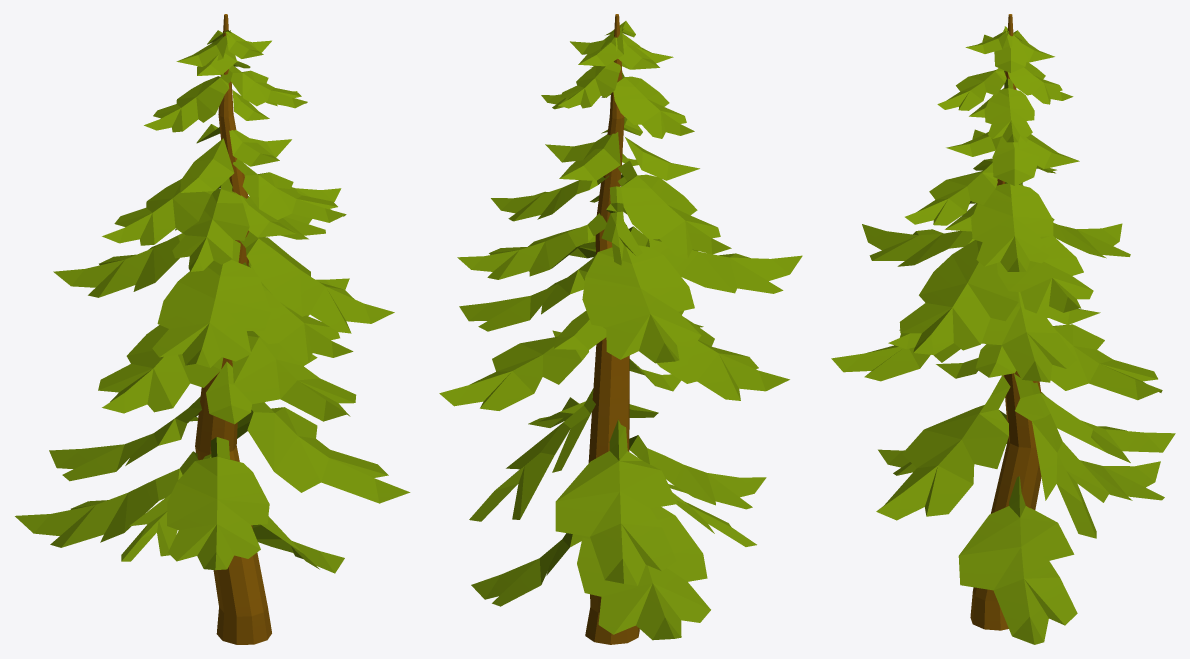
Rendered from Pine model B (6).glb.
The picture shows the model from 3 angles, left to right: view 1: azimuth 30°, elevation 25°; view 2: azimuth 150°, elevation 25°; view 3: azimuth 270°, elevation 25°; orthographic projection. The views are drawn at different scales.
Visible parts, largest first — view 1: SM_FreeTree_08_Free_Tree_M_0; view 2: SM_FreeTree_08_Free_Tree_M_0; view 3: SM_FreeTree_08_Free_Tree_M_0.
Boxes of the visible parts, x1,y1,x2,y2 form: SM_FreeTree_08_Free_Tree_M_0: (15,14,410,644); SM_FreeTree_08_Free_Tree_M_0: (439,14,802,644); SM_FreeTree_08_Free_Tree_M_0: (831,14,1175,644).
Size of the model in its own units: 1.43 by 2.94 by 1.53.
1 material, 1 textured.
